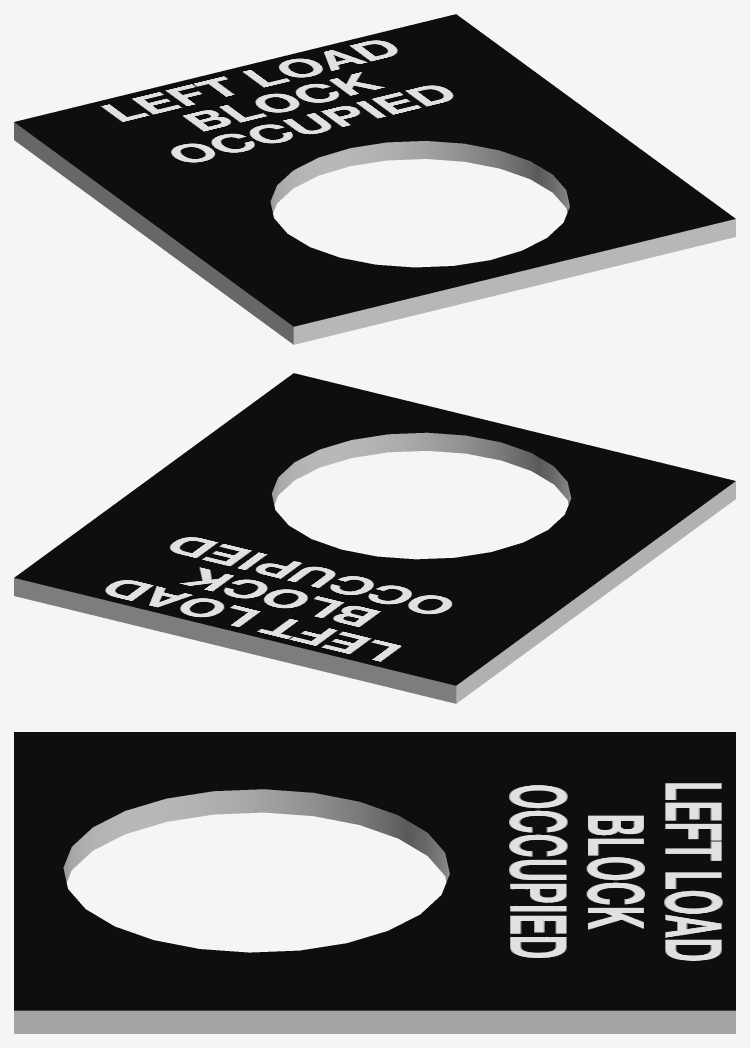
The model's file is leftload.dae.
3 renders of one model, top to bottom at view 1: azimuth 30°, elevation 25°; view 2: azimuth 150°, elevation 25°; view 3: azimuth 270°, elevation 25°, orthographic. The views are drawn at different scales.
Visible parts, largest first — view 1: SketchUp (×3); view 2: SketchUp (×3); view 3: SketchUp (×3).
Part boxes in pixels (x1=…): SketchUp (×3): x1=14, y1=14, x2=735, y2=344; SketchUp (×3): x1=14, y1=373, x2=735, y2=703; SketchUp (×3): x1=14, y1=732, x2=735, y2=1033.
Bounding box in the file's own units: 2.01 × 2.2 × 0.0787.
Materials: 2 (1 with a texture image).
